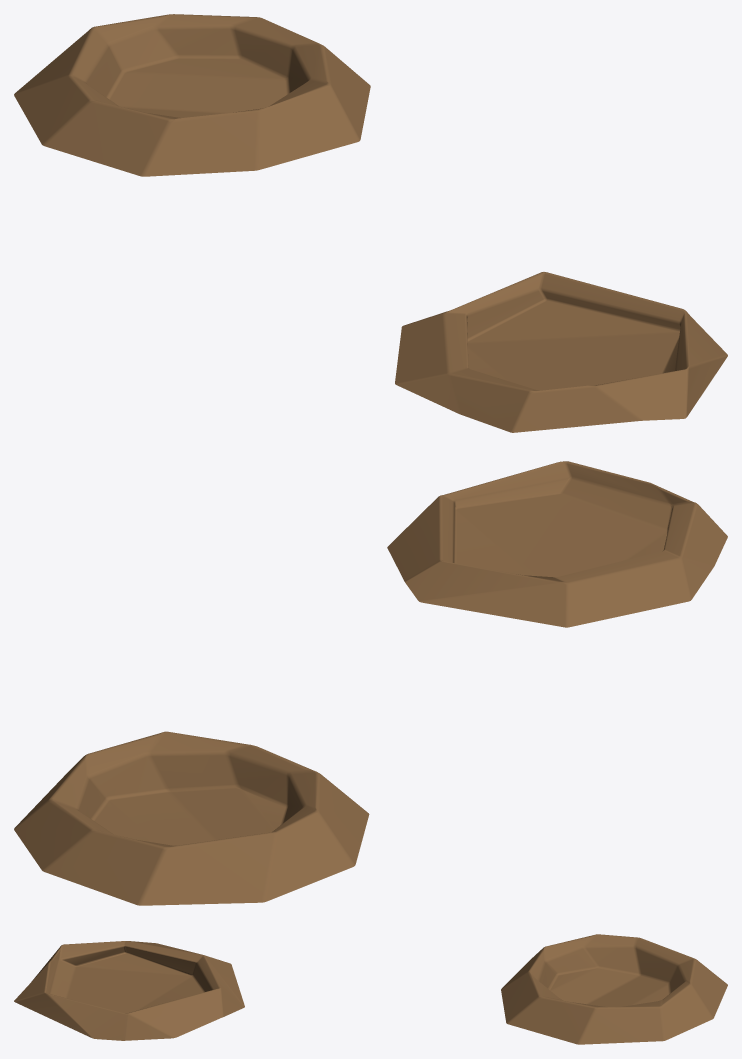
File: Craters.fbx
3 renders of one model, top to bottom at view 1: azimuth 30°, elevation 25°; view 2: azimuth 150°, elevation 25°; view 3: azimuth 270°, elevation 25°, orthographic. The views are drawn at different scales.
Parts seen in each view (by area): view 1: Crater_002, Crater_001; view 2: Crater_002, Crater_001; view 3: Crater_002, Crater_001.
Boxes of the visible parts, left/top/right/bottom form: Crater_002: left=14, top=14, right=370, bottom=176; Crater_001: left=395, top=272, right=727, bottom=432; Crater_002: left=14, top=731, right=369, bottom=905; Crater_001: left=387, top=461, right=727, bottom=627; Crater_002: left=501, top=934, right=727, bottom=1044; Crater_001: left=14, top=941, right=244, bottom=1040.
Size of the model in its own units: 6.03 by 0.7707 by 18.48.
